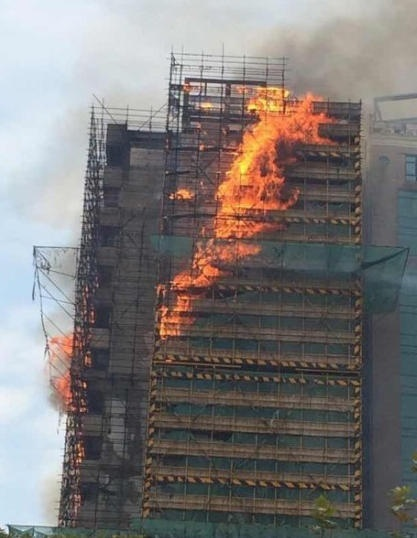fire: (157, 75, 337, 345), (48, 319, 91, 411)
